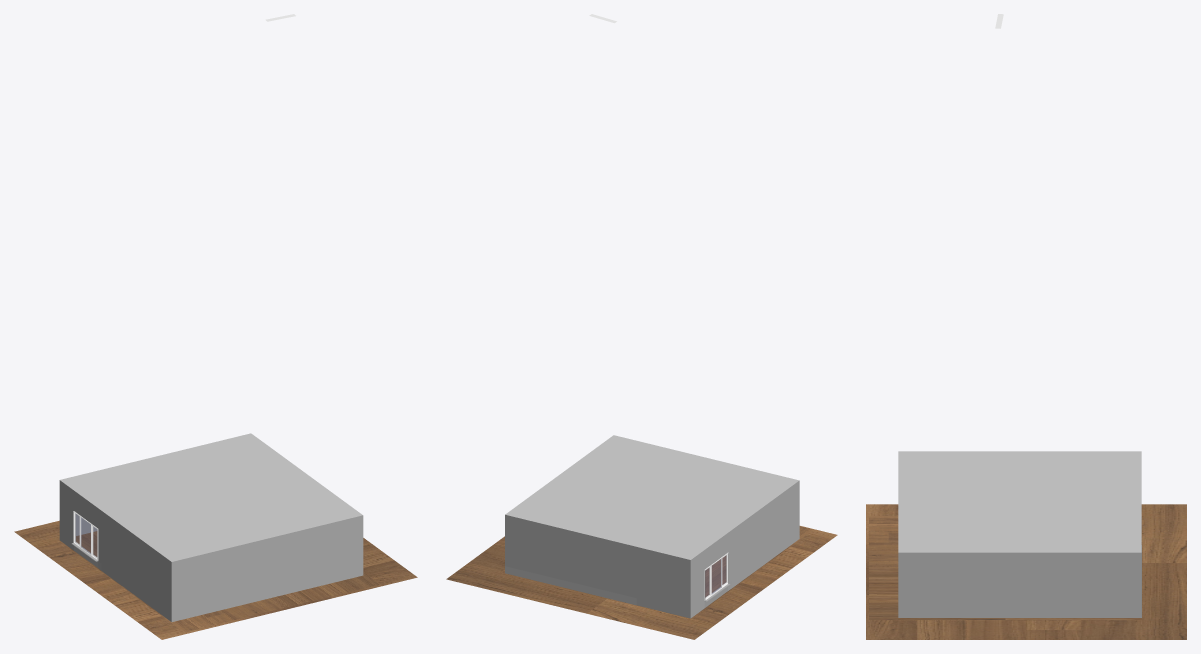
Rendered from interior.glb.
3 renders of one model, left to right at view 1: azimuth 30°, elevation 25°; view 2: azimuth 150°, elevation 25°; view 3: azimuth 270°, elevation 25°, orthographic. The views are drawn at different scales.
Visible parts, largest first — view 1: Cube, Plane, Plane.004, Plane.001; view 2: Cube, Plane, Plane.002; view 3: Cube, Plane, Plane.001, Plane.004, Plane.003.
Part boxes in pixels (bbox=[...]): Cube: bbox=[59, 433, 363, 621]; Plane: bbox=[14, 520, 417, 639]; Plane.004: bbox=[121, 586, 281, 632]; Plane.001: bbox=[269, 572, 380, 608]; Cube: bbox=[505, 435, 799, 618]; Plane: bbox=[446, 526, 837, 639]; Plane.002: bbox=[596, 564, 751, 618]; Cube: bbox=[898, 451, 1141, 617]; Plane: bbox=[866, 504, 1186, 639]; Plane.001: bbox=[869, 568, 1005, 620]; Plane.004: bbox=[869, 516, 898, 567]; Plane.003: bbox=[1005, 568, 1142, 620].
Bounding box in the file's own units: 15.9 × 31.62 × 15.9.
Materials: 7 (1 with a texture image).
